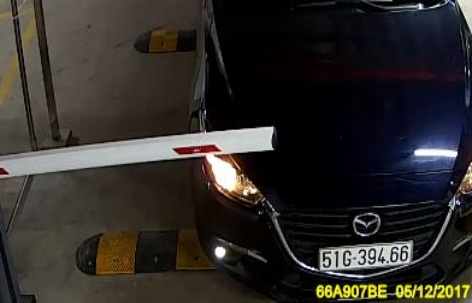plate: (312, 234, 414, 274)
